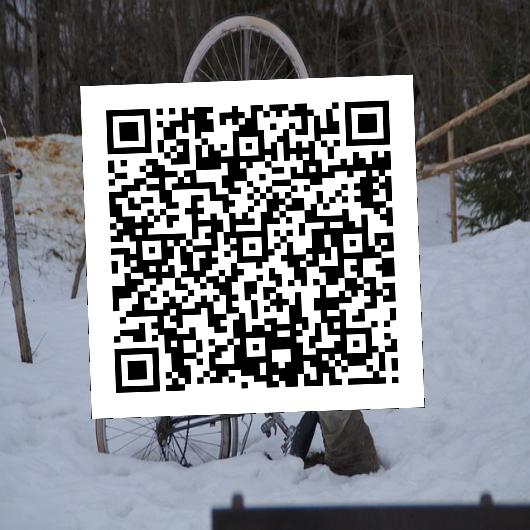qr_code: (80, 74, 424, 418)
